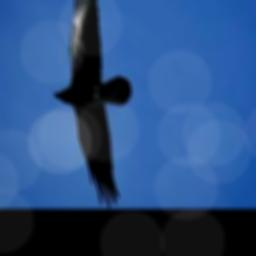Crow: (53, 0, 132, 209)
